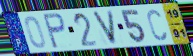0: (25, 15, 48, 50)
2: (73, 12, 99, 48)
5: (119, 9, 146, 44)
C: (146, 8, 168, 42)
P: (41, 12, 67, 50)
V: (91, 9, 119, 46)
